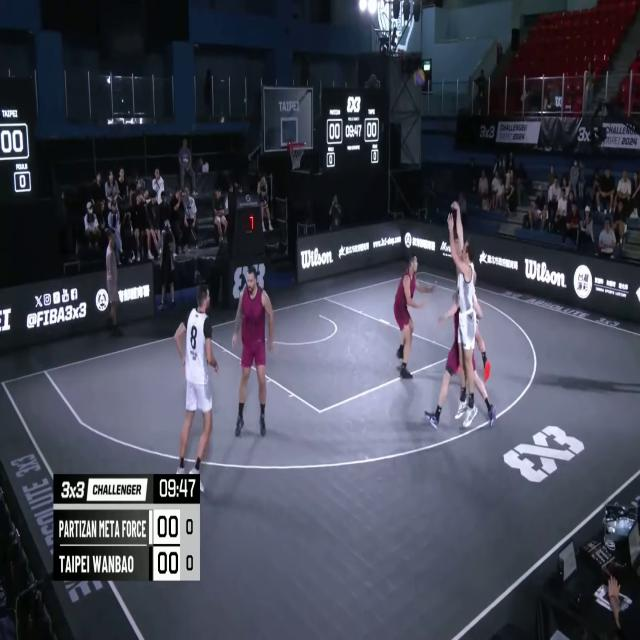ball: (413, 67, 426, 89)
hoop: (287, 138, 305, 172)
player: (438, 247, 494, 421), (449, 193, 496, 384), (174, 283, 219, 479), (233, 266, 275, 440), (447, 211, 476, 430), (394, 252, 437, 378)
